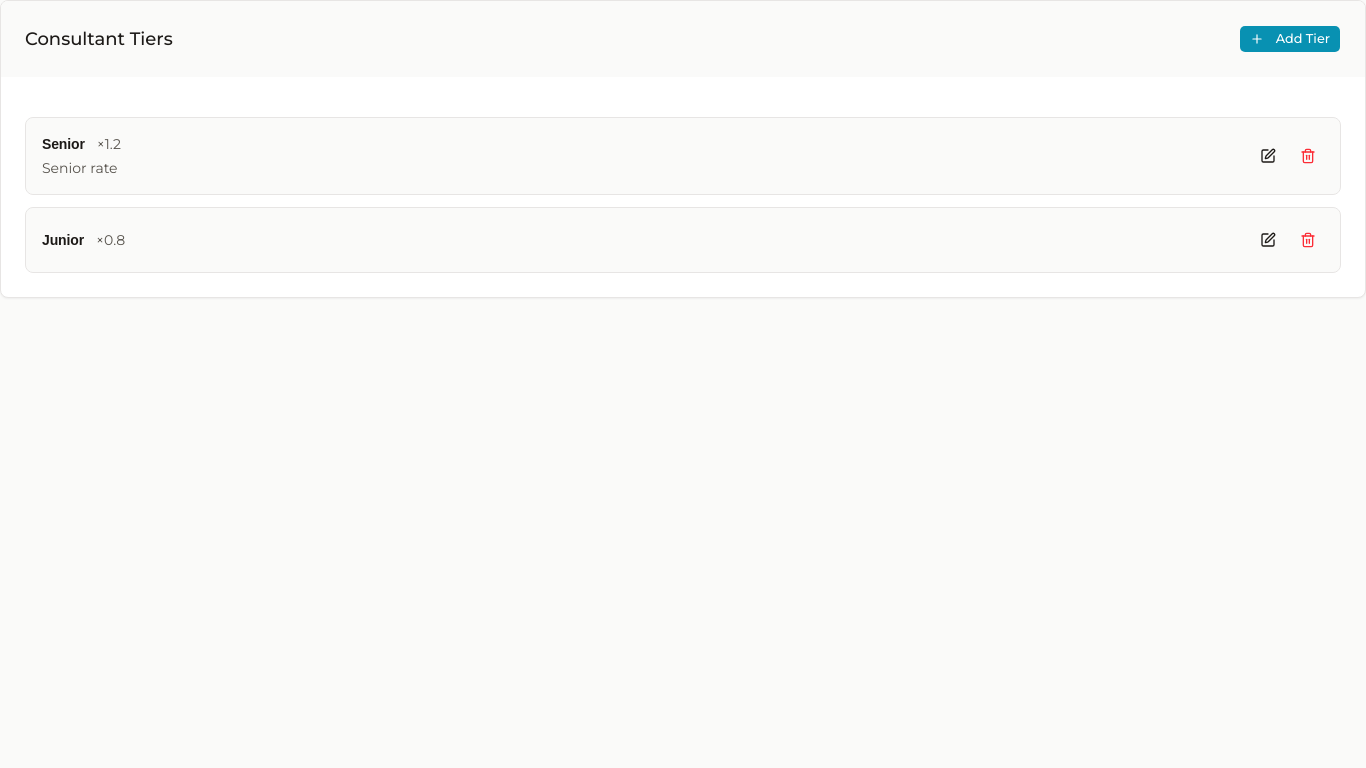
Test: TiersSettingsTab › clicking Add Tier shows the create form with empty defaults
The width and height of the screenshot is (1366, 768).
Click the button "Add Tier". click: (1290, 39)
box: x1=1239 y1=25 x2=1341 y2=53
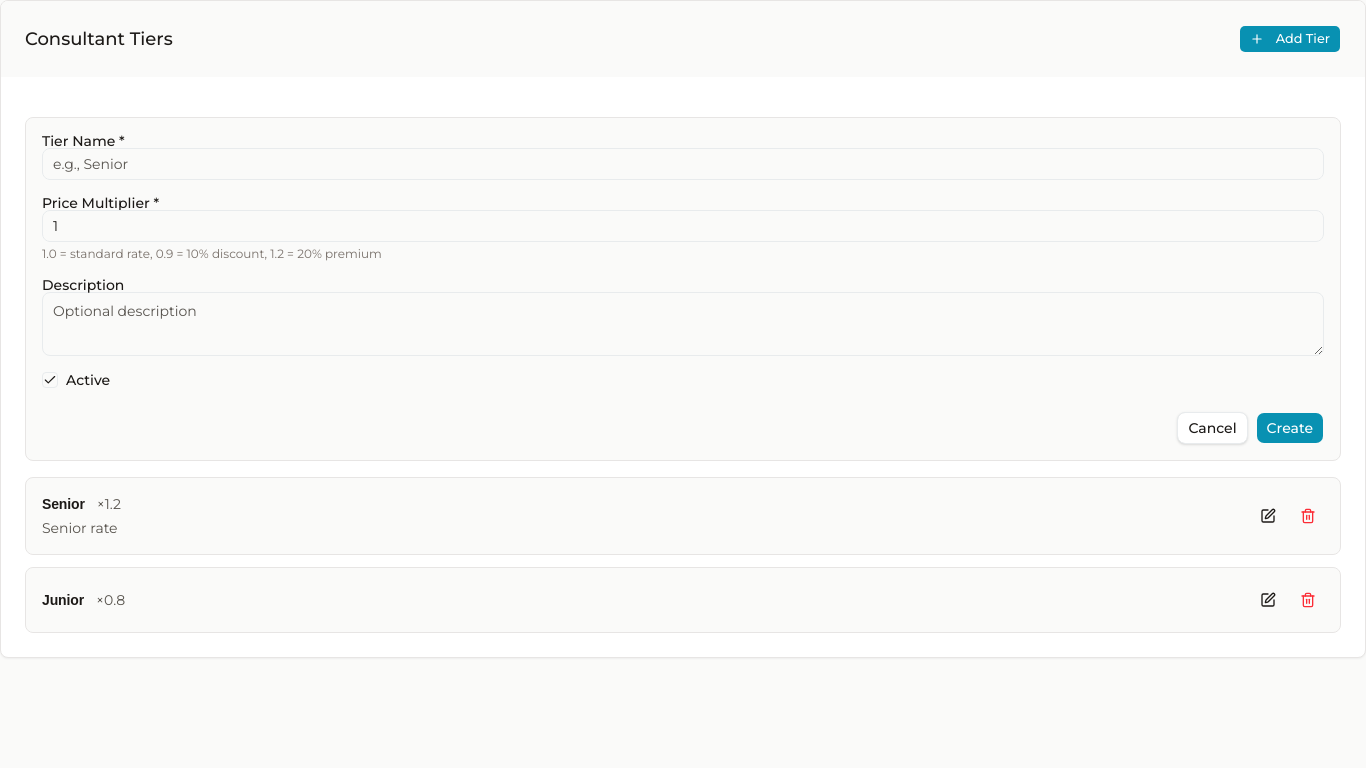
Expected: the button "Create" is shown, x1=1256 y1=412 x2=1324 y2=444
Expected: the number field labelled "Price Multiplier *" holds "1", x1=42 y1=210 x2=1324 y2=242
